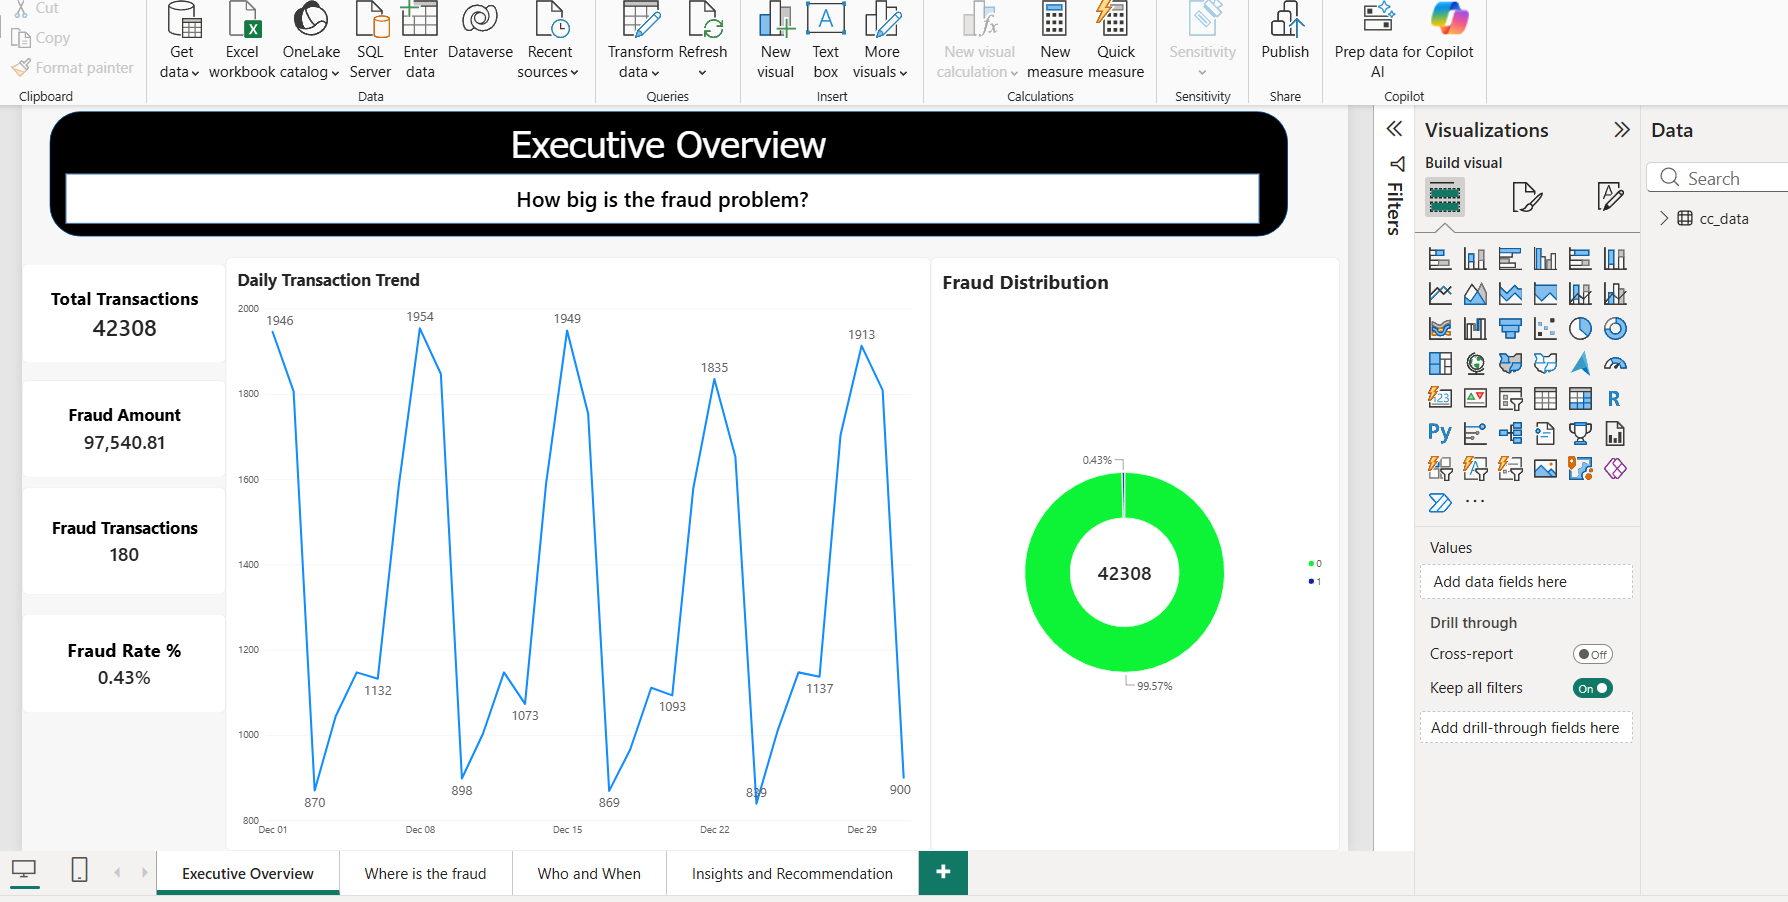

Layout of this report page (visuals, bound fields, positions):
{"tool":"powerbi","page":{"name":"Executive Overview","canvas":[1920,1080],"ordinal":0},"visuals":[{"type":"cardVisual","fields":{"Data":["cc_data.Total Transactions"]},"box":[0,230.2,295.3,144.2],"z":0},{"type":"cardVisual","fields":{"Data":["cc_data.Fraud Transactions"]},"box":[0,553.5,295.3,155.8],"z":1},{"type":"cardVisual","fields":{"Data":["cc_data.Fraud Rate %"]},"box":[0,737.2,295.3,144.2],"z":2},{"type":"cardVisual","fields":{"Data":["cc_data.Fraud Amount"]},"box":[0,397.7,295.3,141.9],"z":3},{"type":"lineChart","title":"Daily Transaction Trend","fields":{"Category":["cc_data.trans_day"],"Y":["cc_data.Total Transactions"]},"box":[295,220.8,1020.6,859.6],"z":4},{"type":"donutChart","title":"Fraud Distribution","fields":{"Category":["cc_data.is_fraud"],"Y":["cc_data.Total Transactions"]},"box":[1315.6,220.8,591.8,859.6],"z":5},{"type":"shape","box":[39.5,9.3,1793,181.4],"z":6},{"type":"textbox","box":[100,100,300,300],"z":8},{"type":"shape","box":[62.8,100,1727.9,72.1],"z":9}]}

Visuals, with their boxes on the page's 1920x1080 design canvas (x1, y1, x2, y2). These are canvas units, not pixel positions in the 1788x902 screenshot, which may show the page scaled, cropped or inside an application window:
cardVisual - cc_data.Total Transactions: 0,230,295,374
cardVisual - cc_data.Fraud Transactions: 0,554,295,709
cardVisual - cc_data.Fraud Rate %: 0,737,295,881
cardVisual - cc_data.Fraud Amount: 0,398,295,540
"Daily Transaction Trend" lineChart: 295,221,1316,1080
"Fraud Distribution" donutChart: 1316,221,1907,1080
shape: 40,9,1832,191
textbox: 100,100,400,400
shape: 63,100,1791,172
